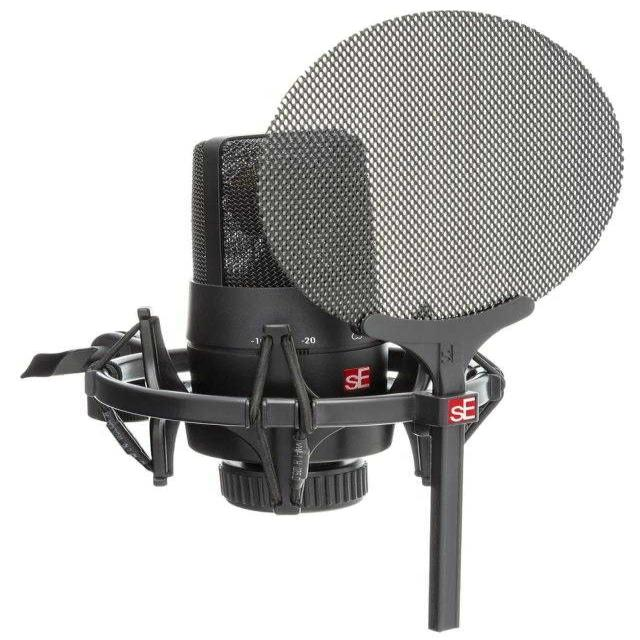microphone: (179, 125, 396, 516)
